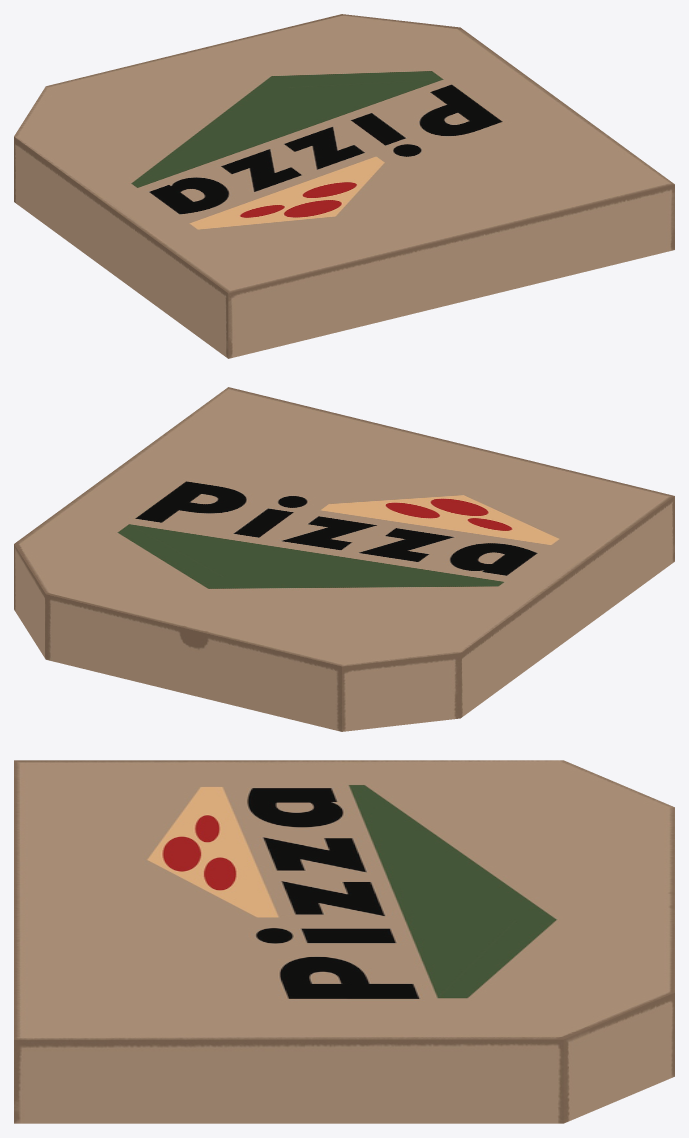
Rendered from pizza_box.glb.
The picture shows the model from 3 angles, top to bottom: view 1: azimuth 30°, elevation 25°; view 2: azimuth 150°, elevation 25°; view 3: azimuth 270°, elevation 25°; orthographic projection. The views are drawn at different scales.
Visible parts, largest first — view 1: SM_FridgePizza; view 2: SM_FridgePizza; view 3: SM_FridgePizza.
Part boxes in pixels (bbox=[...]): SM_FridgePizza: bbox=[14, 14, 674, 358]; SM_FridgePizza: bbox=[14, 387, 674, 731]; SM_FridgePizza: bbox=[14, 760, 674, 1123].
Size of the model in its own units: 200 by 28.07 by 200.
Materials: 1 (1 with a texture image).
